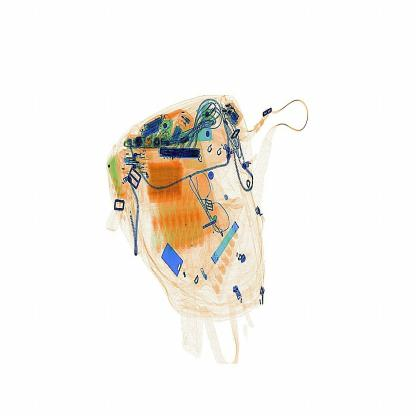scissors: (152, 140, 203, 170)
